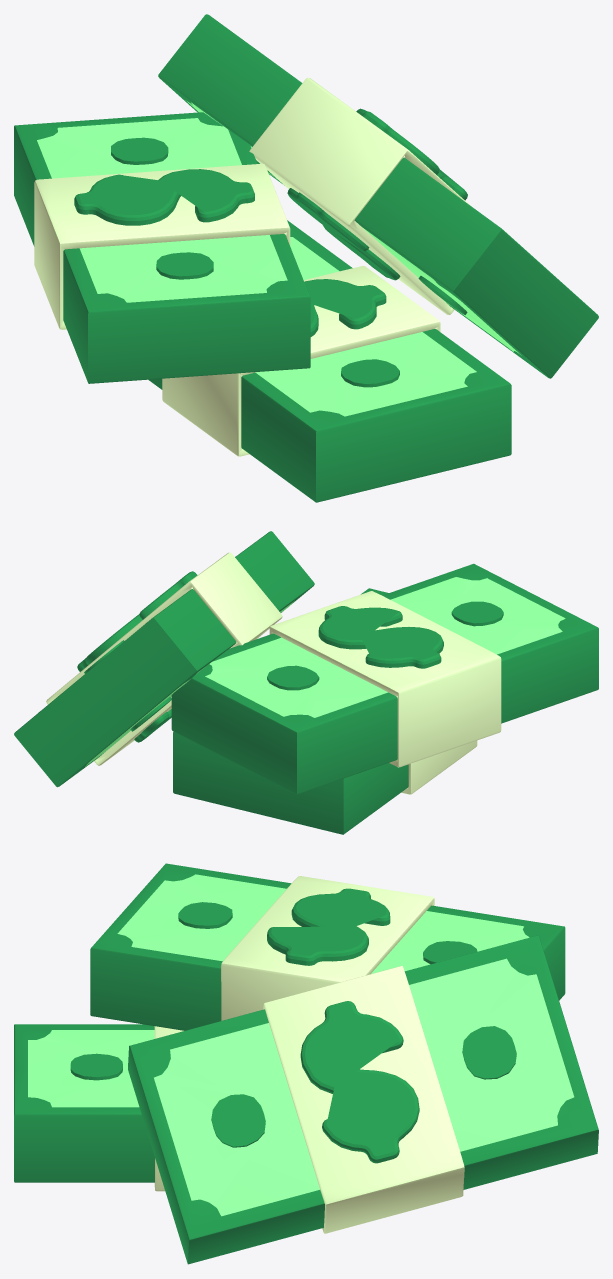
The model's file is Money.fbx.
The picture shows the model from 3 angles, top to bottom: view 1: azimuth 30°, elevation 25°; view 2: azimuth 150°, elevation 25°; view 3: azimuth 270°, elevation 25°; orthographic projection. The views are drawn at different scales.
Visible parts, largest first — view 1: Money; view 2: Money; view 3: Money.
Boxes of the visible parts, box(x1,y1,x2,y2) form: Money: box(14, 14, 598, 502); Money: box(14, 531, 598, 834); Money: box(14, 863, 598, 1264).
Size of the model in its own units: 54.69 by 26.79 by 55.67.
